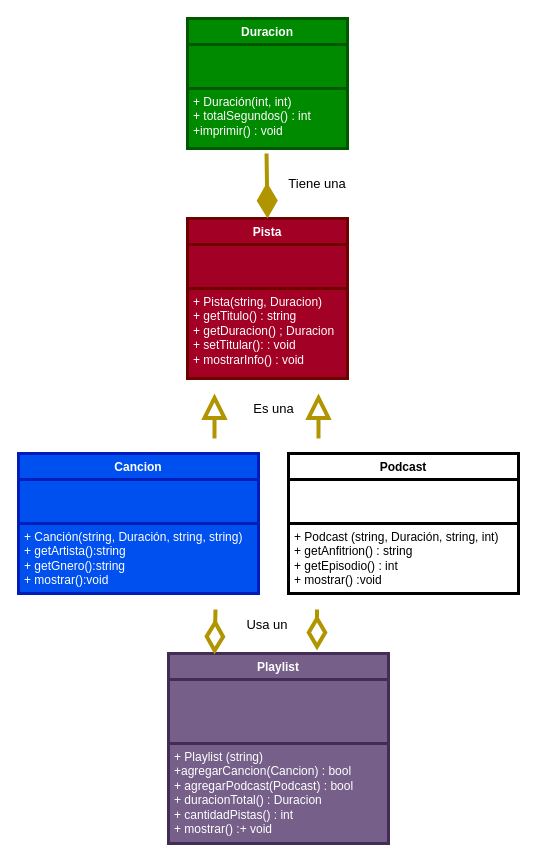
Some shapes in this 537 by 864 pixel diagram are drawn without their labels. The centre of each missing label's shape, as x and y in pixels:
- anfitrión: string - episodios: int: pixel 403 501
- artista: string - genero: string: pixel 138 501
- minutos: int - segundos: int: pixel 267 66
- nombre: string - canciones: vector<Canción> - podcast: <Podcast>: pixel 278 711
- titulo: String - duración: Duración: pixel 267 266
